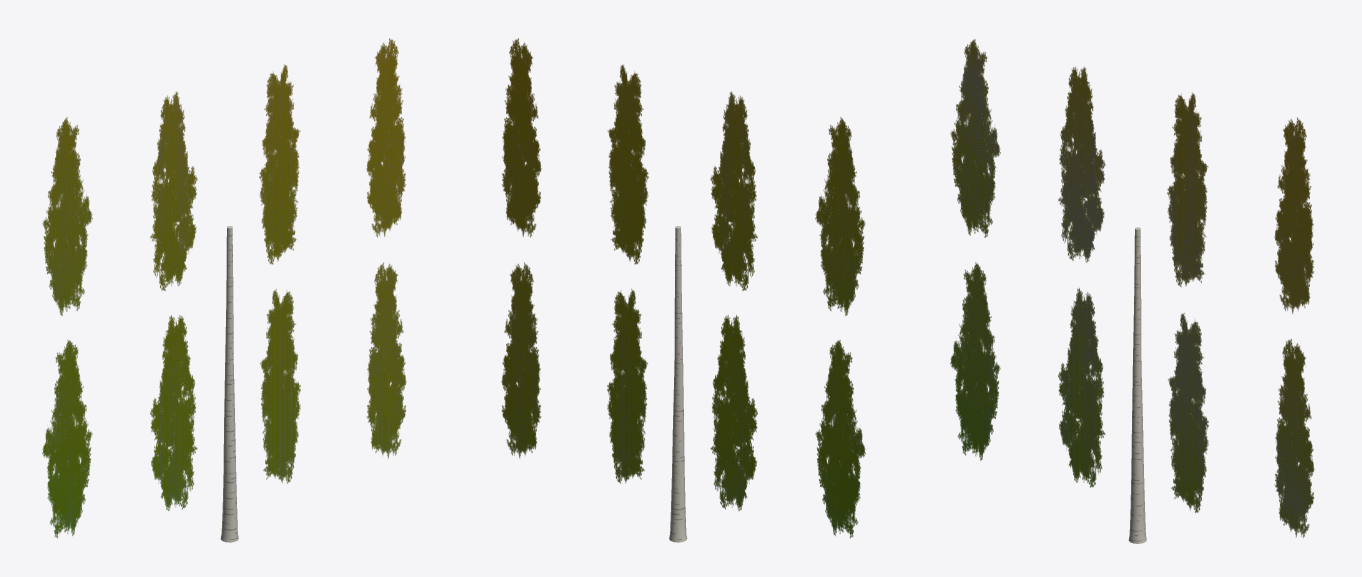
File: tree_medium_birch_upright_canopy_lod2_impostor.glb
3 views of the same model, side by side, from view 1: azimuth 30°, elevation 25°; view 2: azimuth 150°, elevation 25°; view 3: azimuth 330°, elevation 25° (orthographic).
Visible parts, largest first — view 1: TreeHLOD2_Impostor, Birch_Trunk_Stylized; view 2: TreeHLOD2_Impostor, Birch_Trunk_Stylized; view 3: TreeHLOD2_Impostor, Birch_Trunk_Stylized.
Boxes of the visible parts, <box> form: TreeHLOD2_Impostor: <box>42,38,406,538</box>; Birch_Trunk_Stylized: <box>220,226,238,542</box>; TreeHLOD2_Impostor: <box>501,38,865,538</box>; Birch_Trunk_Stylized: <box>669,226,687,542</box>; TreeHLOD2_Impostor: <box>950,39,1314,537</box>; Birch_Trunk_Stylized: <box>1128,227,1146,543</box>.
Bounding box in the file's own units: 12.36 × 13.15 × 0.4585.
2 materials, 2 textured.
